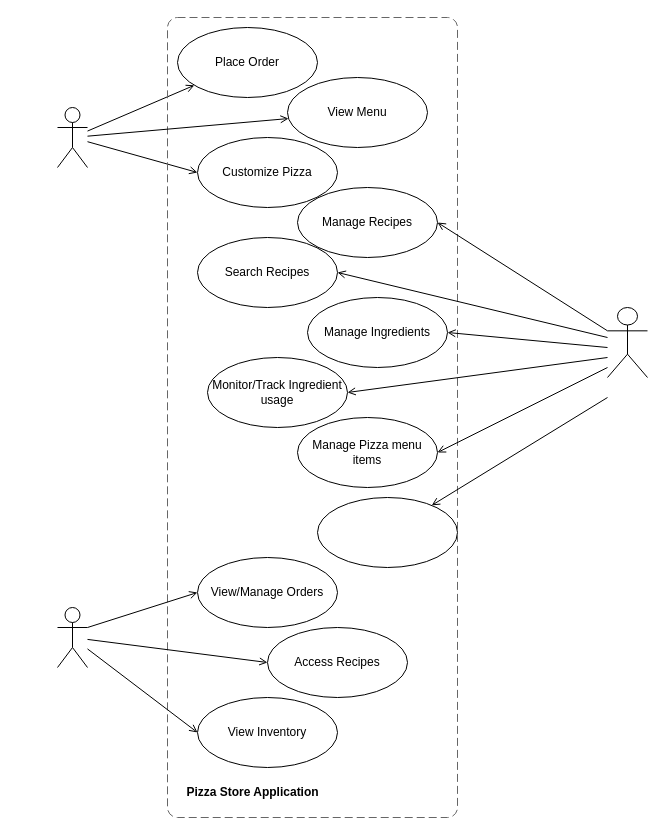
Some shapes in this 665 by 835 pixel diagram are drawn without their labels. The shapes that lost their labels are listed below. From the top down, each one's box as (x1, y1, x2, y2) in pixels, then its label:
(56, 106, 88, 168): Customer
(606, 306, 648, 378): Store Manager
(316, 496, 458, 568): Manage Side Dishes
(56, 606, 88, 668): Kicthen Staff
